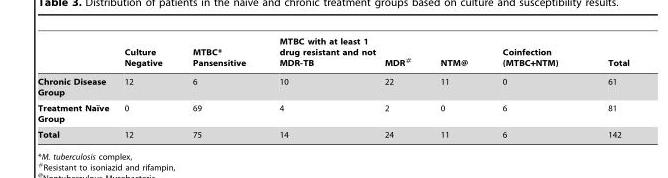table: (37, 36, 628, 138)
table column: (261, 36, 379, 138), (484, 36, 582, 138), (176, 36, 261, 138), (37, 36, 116, 138), (116, 36, 176, 138), (425, 36, 484, 138), (379, 36, 425, 138), (582, 36, 628, 138)
table column header: (37, 36, 628, 72)
table row: (37, 36, 628, 72), (37, 72, 628, 99), (37, 99, 628, 126), (37, 126, 628, 138)
